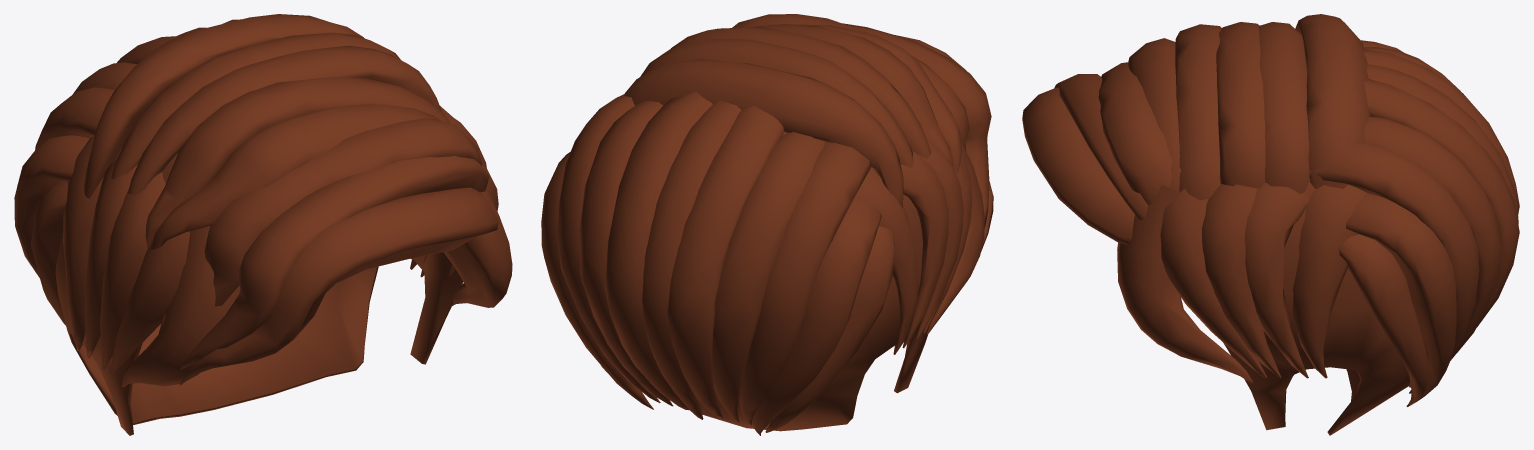
File: hair-3-a9c85fae.glb
3 renders of one model, left to right at view 1: azimuth 30°, elevation 25°; view 2: azimuth 150°, elevation 25°; view 3: azimuth 270°, elevation 25°, orthographic. The views are drawn at different scales.
Visible parts, largest first — view 1: hair_3.001; view 2: hair_3.001; view 3: hair_3.001.
Part boxes in pixels (x1,y1,x2,y2): hair_3.001: (14,14,512,435); hair_3.001: (541,14,993,435); hair_3.001: (1022,14,1519,435).
Bounding box in the file's own units: 1.67 × 1.66 × 2.11.
